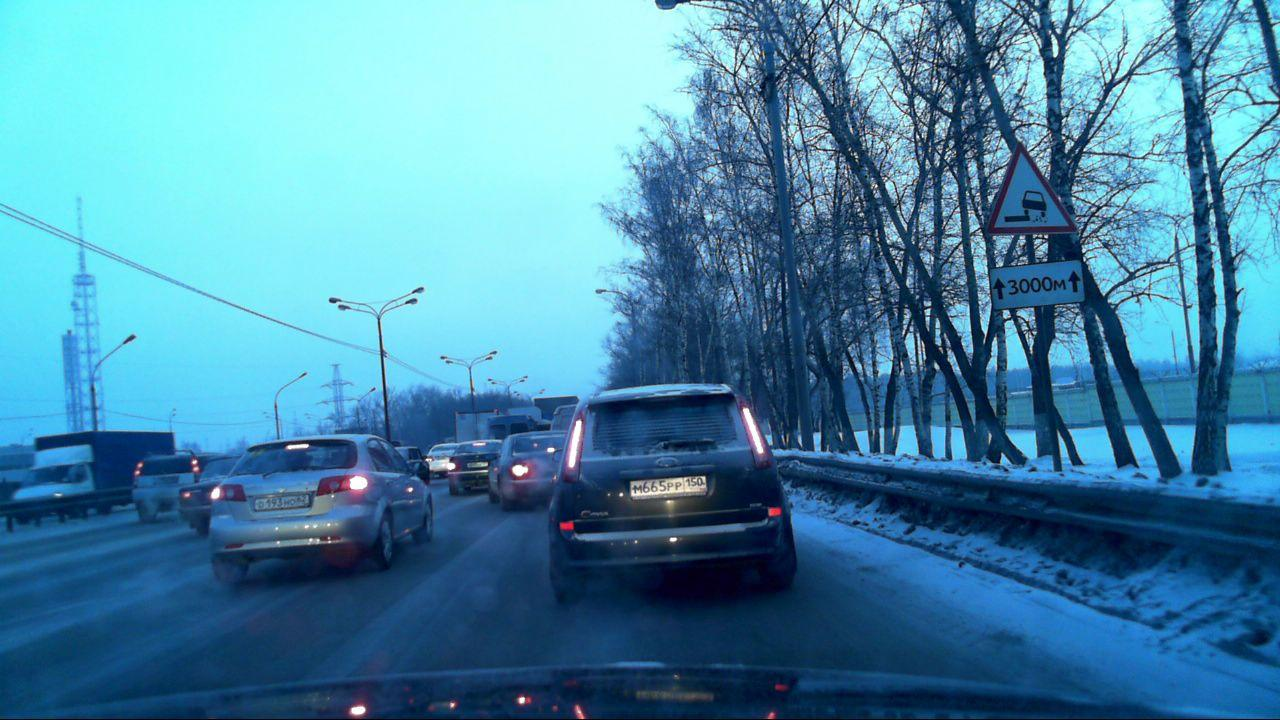1_19: (982, 143, 1080, 235)
8_2_1: (988, 260, 1087, 310)
